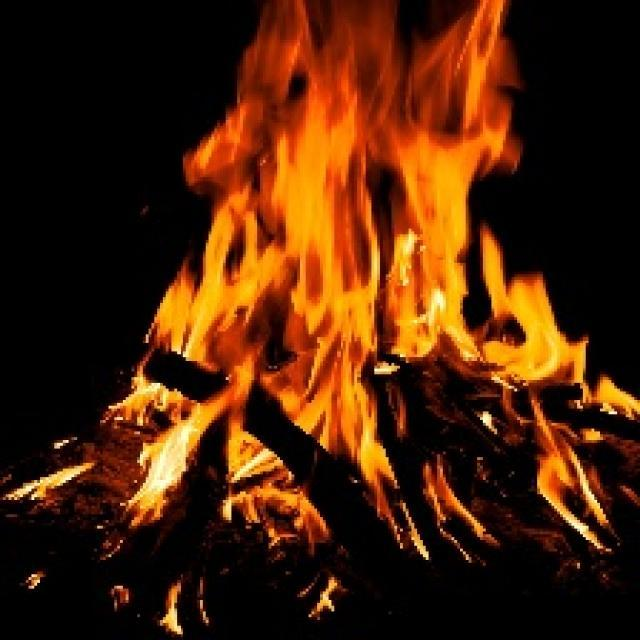Fire: (120, 0, 640, 519)
